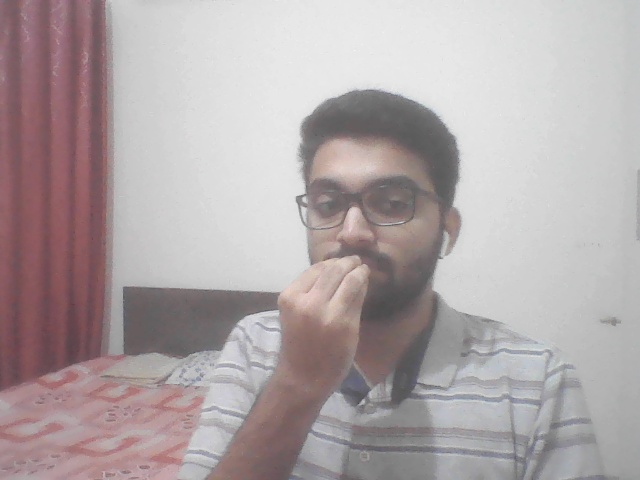eat: (255, 240, 393, 426)
